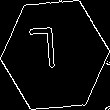L_S: (39, 29, 71, 81)
